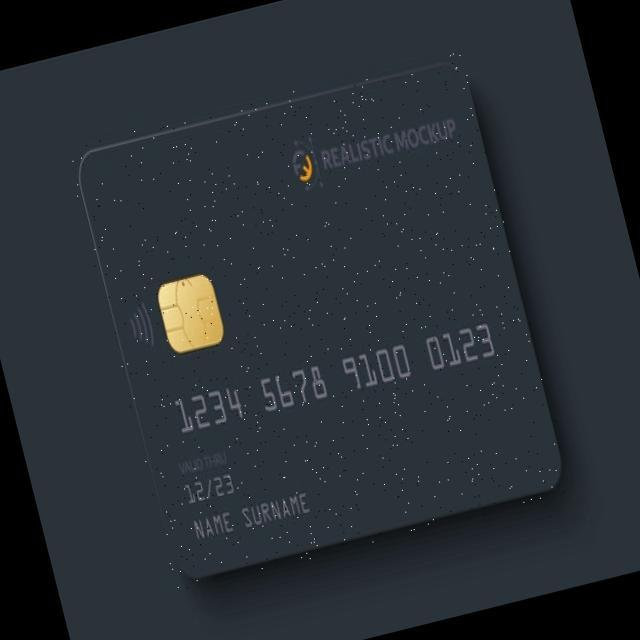payment_card: (74, 57, 564, 581)
